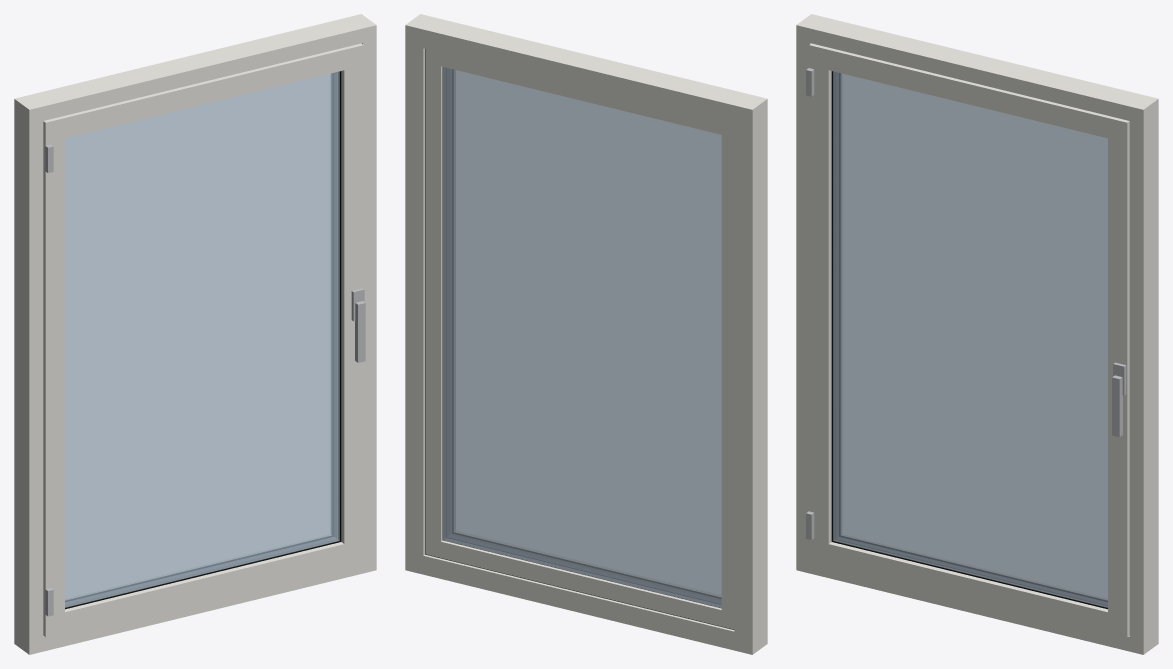
Rendered from vision.glb.
3 renders of one model, left to right at view 1: azimuth 30°, elevation 25°; view 2: azimuth 150°, elevation 25°; view 3: azimuth 330°, elevation 25°, orthographic.
Parts seen in each view (by area): view 1: Vision; view 2: Vision; view 3: Vision.
Part boxes in pixels (x1,y1,x2,y2): Vision: [14, 14, 376, 654]; Vision: [405, 14, 767, 654]; Vision: [796, 14, 1158, 654].
Size of the model in its own units: 1 by 1.5 by 0.108.
